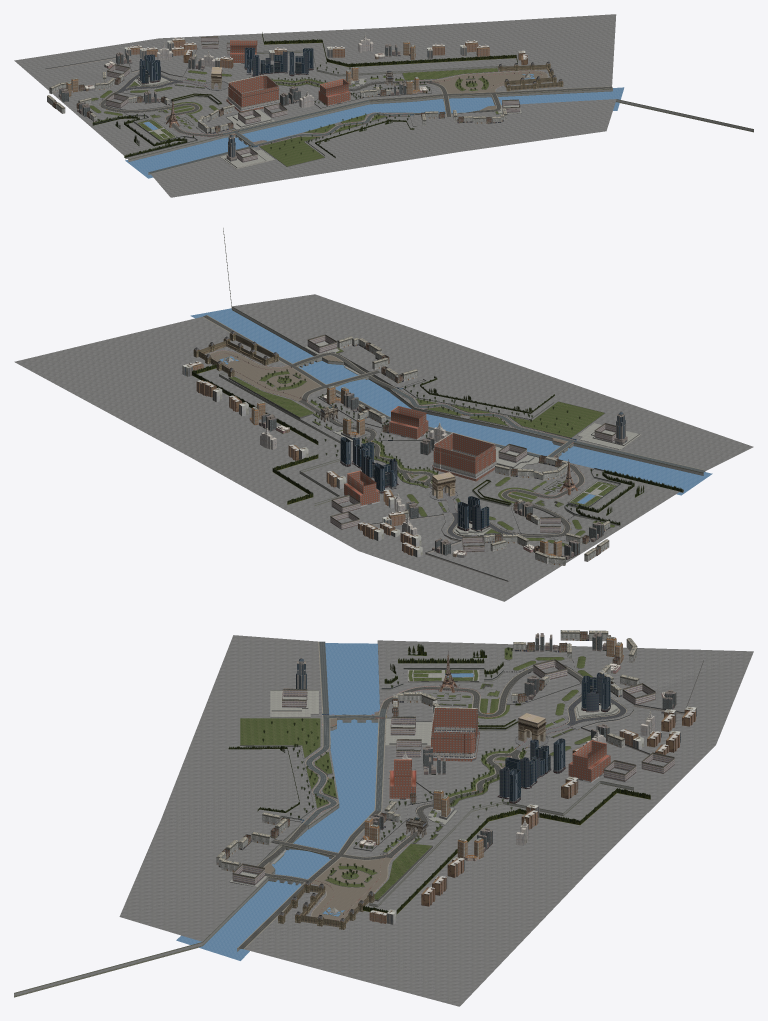
File: sports_car_racing_paris.glb
3 views of the same model, one above another, from view 1: azimuth 30°, elevation 25°; view 2: azimuth 150°, elevation 25°; view 3: azimuth 270°, elevation 25° (orthographic). The views are drawn at different scales.
Visible parts, largest first — view 1: dibiao_29, dibiao_28, shaidao_55_13, shaidao_55_8, peilou_11_2, shaidao_57_4, peilou_10_2 (×2), shaidao_55_1, shaidao_57_6, shaidao_55_9, dibiao_30, shaidao_54_10 (+12 smaller); view 2: dibiao_29, dibiao_28, shaidao_55_13, shaidao_55_8, peilou_11_2, peilou_10_2 (×2), shaidao_55_9, dibiao_30, shaidao_55_1, shaidao_54_10, shaidao_57_6, shaidao_56_5 (+4 smaller); view 3: dibiao_29, dibiao_28, shaidao_55_13, shaidao_55_8, peilou_10_2 (×2), shaidao_55_1, peilou_11_2, dibiao_30, shaidao_56_5, shaidao_57_6, shaidao_57_1, guangchang_5_2 (+12 smaller).
Boxes of the visible parts, bbox=[...] form: dibiao_29: bbox=[14, 14, 616, 159]; dibiao_28: bbox=[151, 99, 616, 197]; shaidao_55_13: bbox=[125, 87, 624, 178]; shaidao_55_8: bbox=[260, 114, 386, 166]; peilou_11_2: bbox=[226, 75, 280, 112]; shaidao_57_4: bbox=[256, 50, 612, 104]; peilou_10_2 (×2): bbox=[230, 40, 350, 105]; shaidao_55_1: bbox=[148, 99, 414, 173]; shaidao_57_6: bbox=[262, 32, 517, 67]; shaidao_55_9: bbox=[128, 101, 417, 174]; dibiao_30: bbox=[435, 73, 542, 93]; shaidao_54_10: bbox=[92, 93, 221, 157]; dibiao_29: bbox=[14, 317, 679, 601]; dibiao_28: bbox=[232, 294, 753, 470]; shaidao_55_13: bbox=[190, 308, 712, 495]; shaidao_55_8: bbox=[416, 398, 604, 437]; peilou_11_2: bbox=[432, 433, 495, 481]; peilou_10_2 (×2): bbox=[344, 406, 428, 505]; shaidao_55_9: bbox=[390, 379, 703, 492]; dibiao_30: bbox=[214, 353, 320, 398]; shaidao_55_1: bbox=[386, 388, 705, 472]; shaidao_54_10: bbox=[472, 469, 682, 524]; shaidao_57_6: bbox=[192, 364, 318, 504]; shaidao_56_5: bbox=[223, 228, 392, 392]; dibiao_29: bbox=[244, 640, 753, 1006]; dibiao_28: bbox=[119, 635, 338, 941]; shaidao_55_13: bbox=[176, 643, 379, 960]; shaidao_55_8: bbox=[240, 718, 336, 807]; peilou_10_2 (×2): bbox=[389, 740, 610, 798]; shaidao_55_1: bbox=[303, 641, 386, 824]; peilou_11_2: bbox=[431, 708, 479, 761]; dibiao_30: bbox=[315, 857, 383, 919]; shaidao_56_5: bbox=[14, 825, 334, 997]; shaidao_57_6: bbox=[363, 788, 650, 914]; shaidao_57_1: bbox=[238, 810, 416, 948]; guangchang_5_2: bbox=[270, 690, 318, 717].
Size of the model in its own units: 34.44 by 2 by 29.12.
49 materials, 49 textured.
